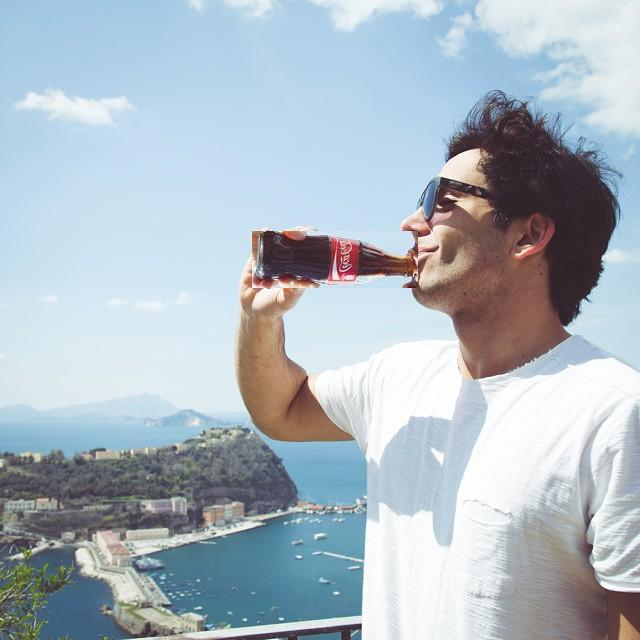coca-cola: (252, 231, 418, 288)
